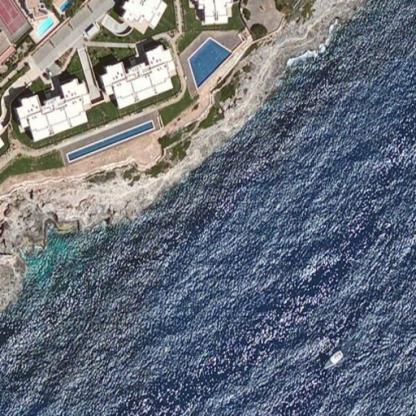ship: (320, 345, 344, 370)
